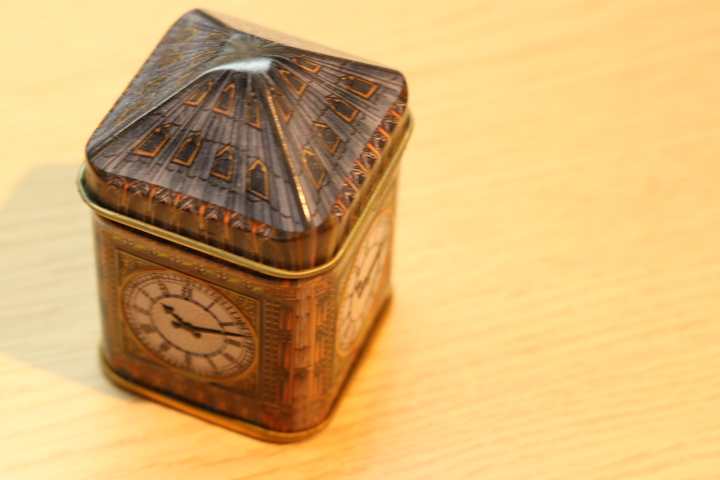Big Ben: (71, 3, 428, 464)
